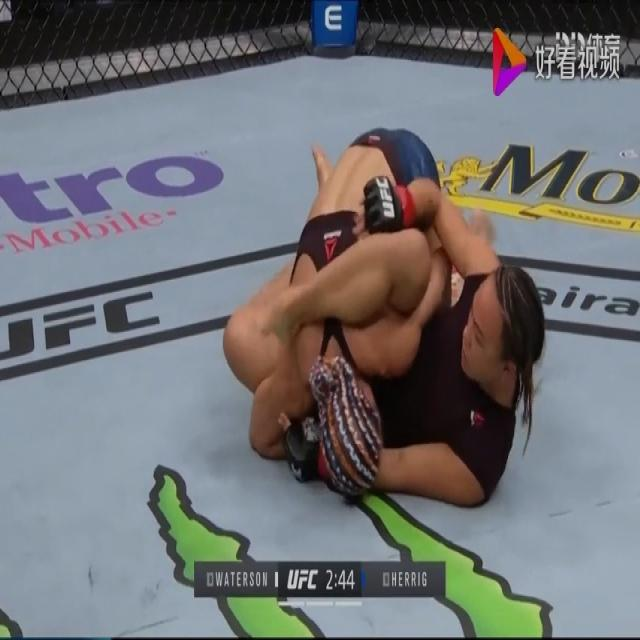fight: (213, 115, 556, 532)
